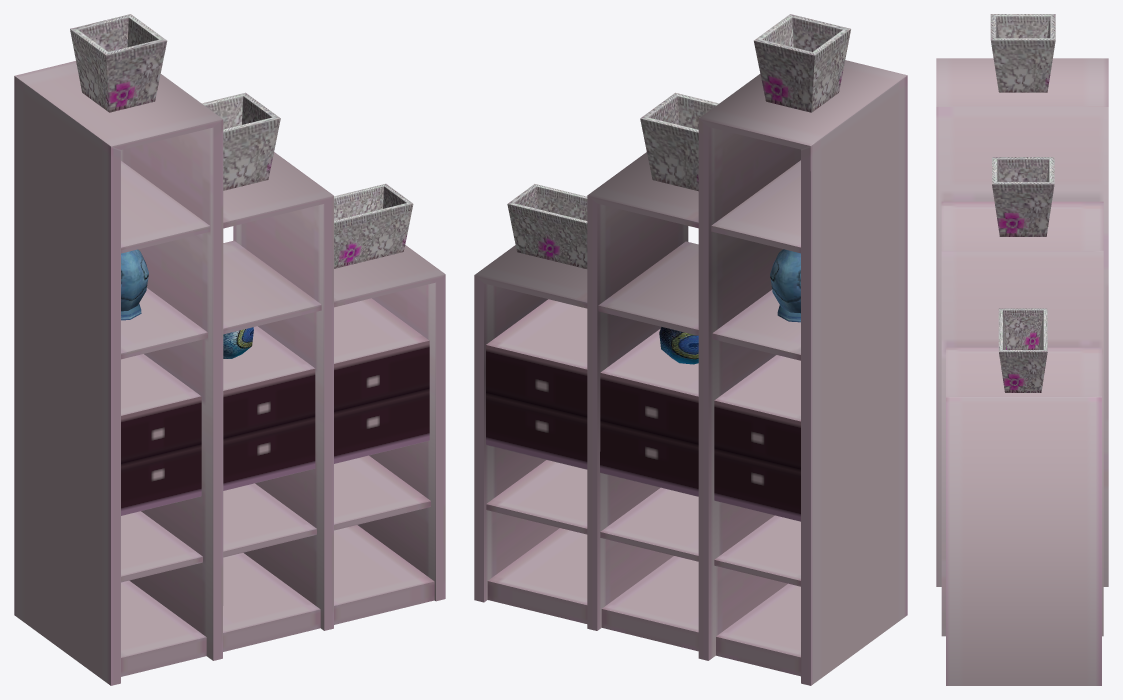
File: furni_0200104_02.FBX
3 views of the same model, side by side, from view 1: azimuth 30°, elevation 25°; view 2: azimuth 150°, elevation 25°; view 3: azimuth 270°, elevation 25° (orthographic). The views are drawn at different scales.
Visible parts, largest first — view 1: furni_0200104_02; view 2: furni_0200104_02; view 3: furni_0200104_02.
Boxes of the visible parts, x1,y1,x2,y2 form: furni_0200104_02: [14, 14, 445, 685]; furni_0200104_02: [474, 14, 907, 685]; furni_0200104_02: [936, 14, 1108, 685].
Size of the model in its own units: 142 by 239 by 69.73.
